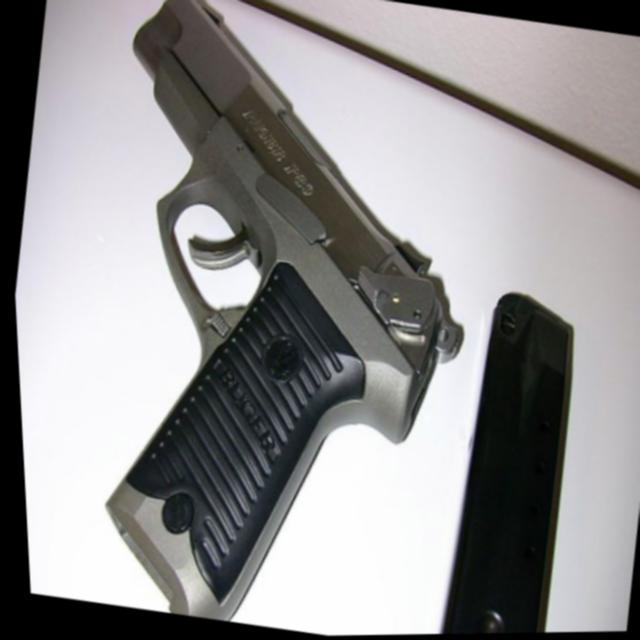weapon: (40, 0, 520, 640)
